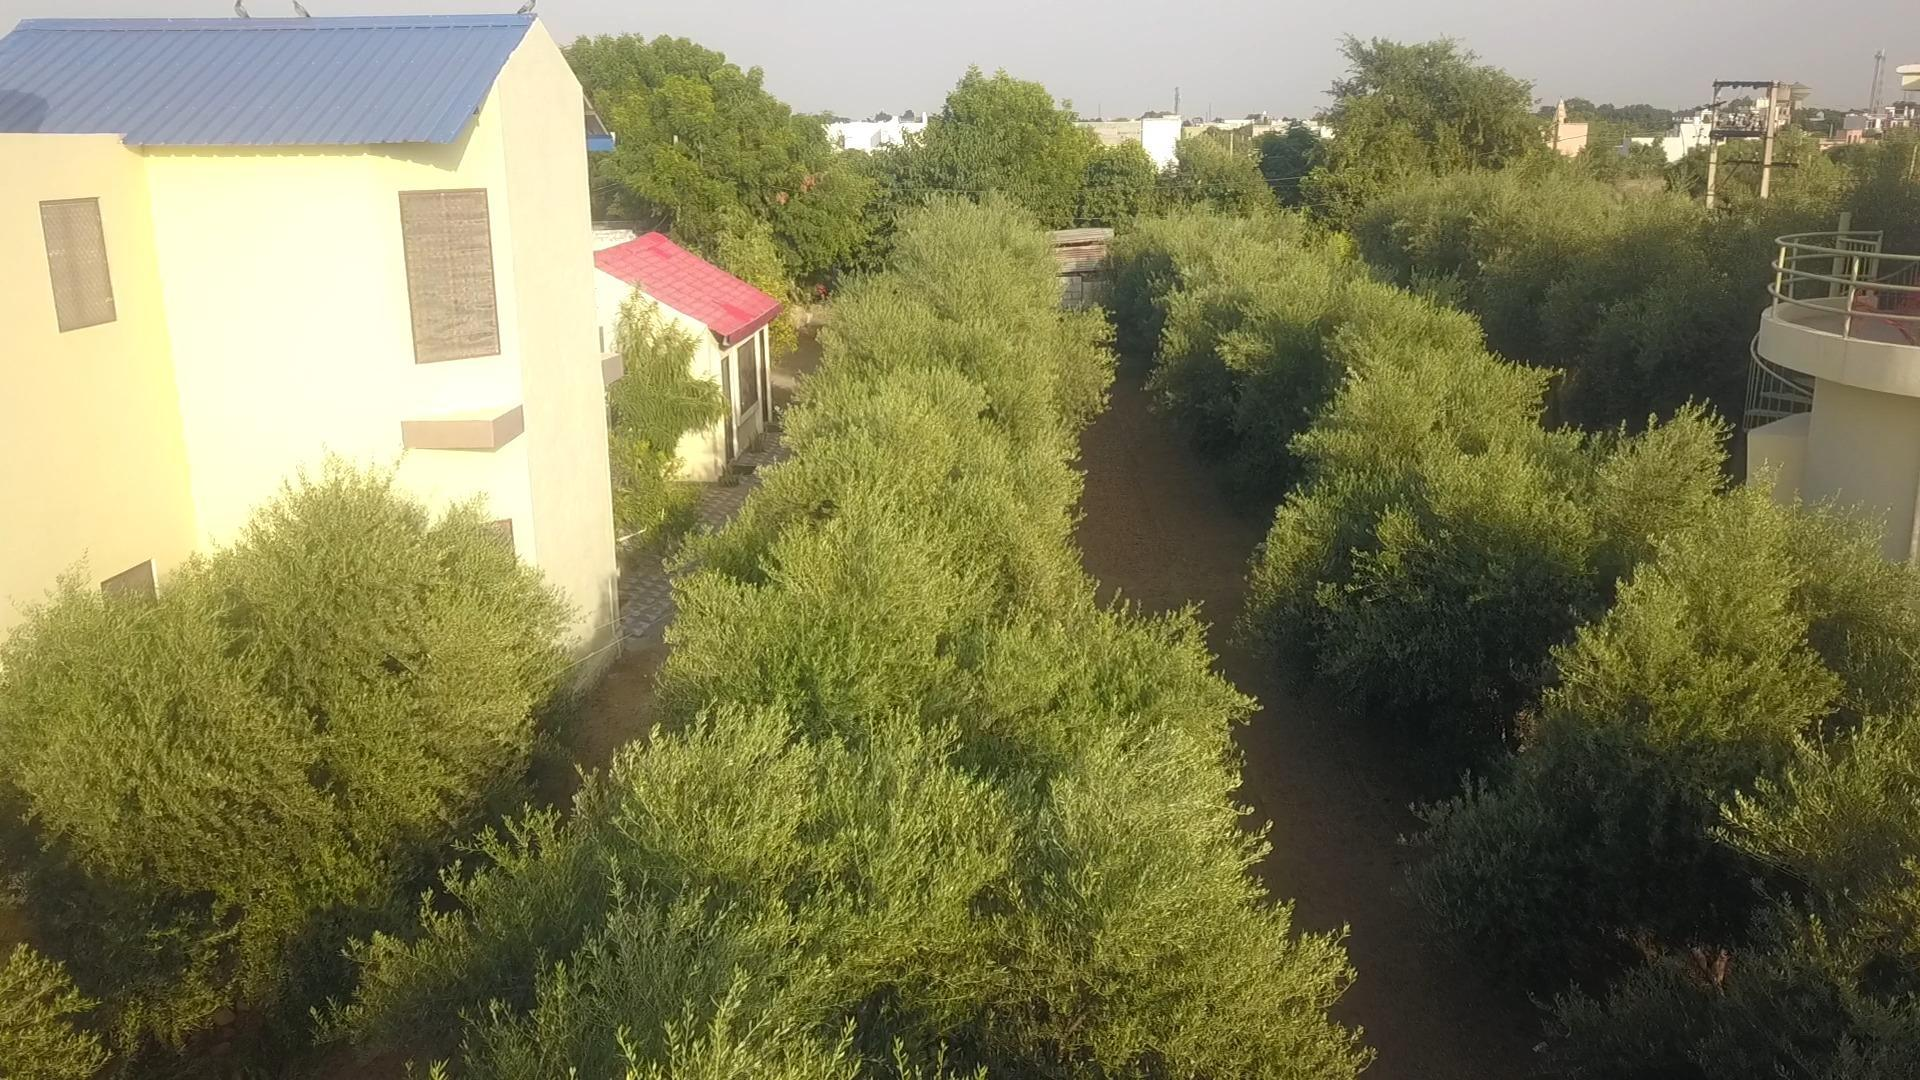canopy: (447, 202, 1374, 1079), (1112, 214, 1919, 1077), (0, 465, 572, 1033)
road: (1076, 371, 1538, 1079)
